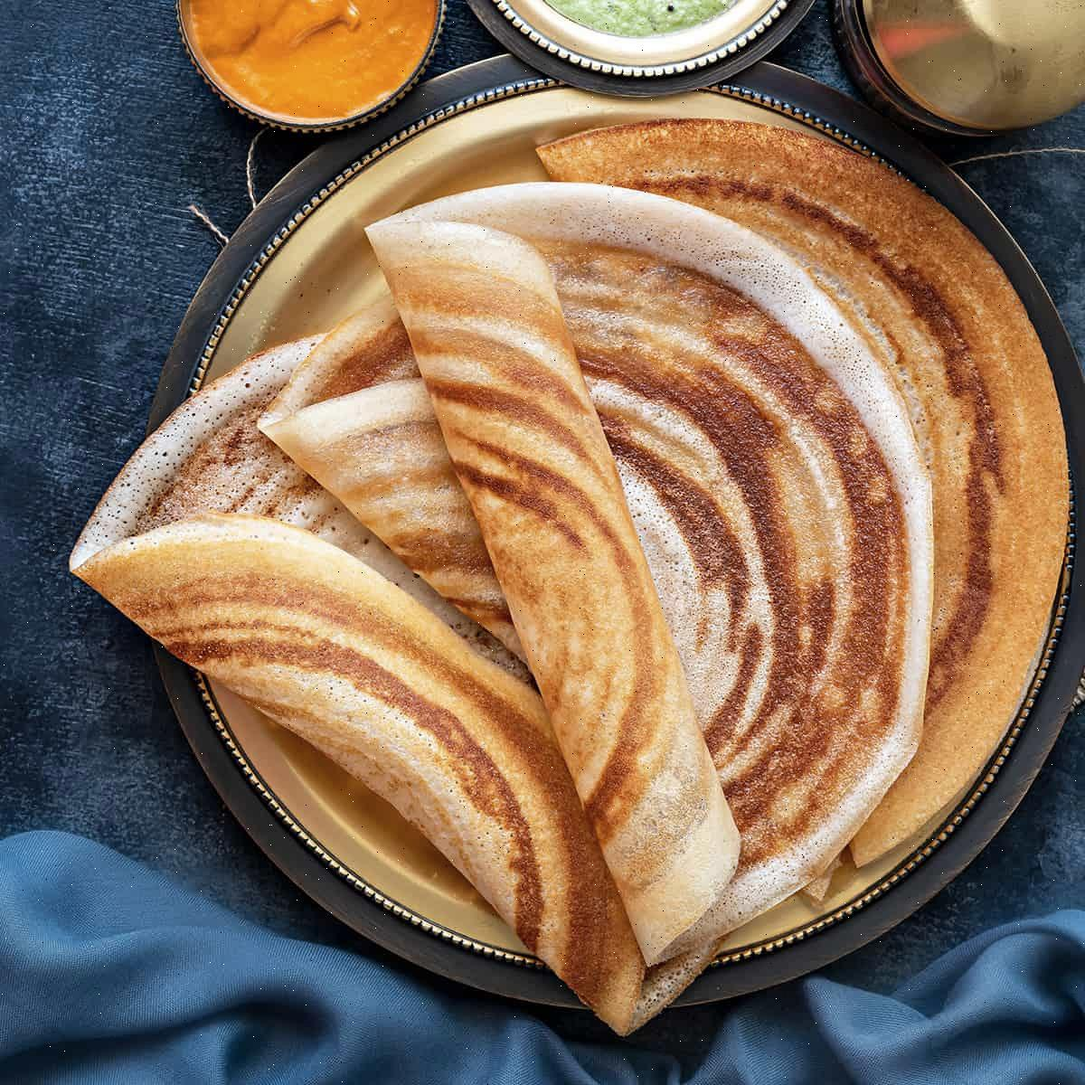dosa: (164, 122, 1025, 925)
